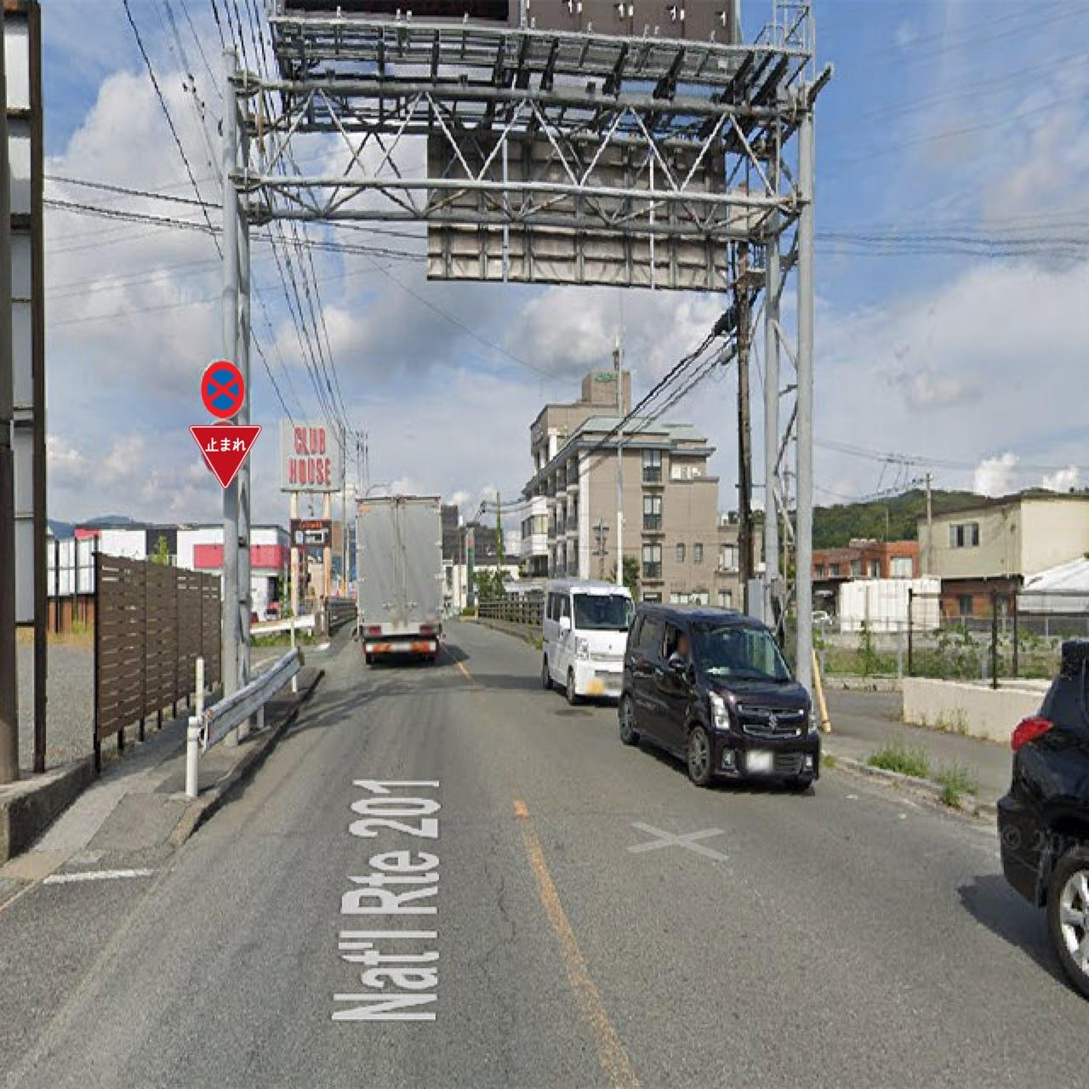stop_sign: (93, 277, 353, 704), (200, 360, 253, 416)
